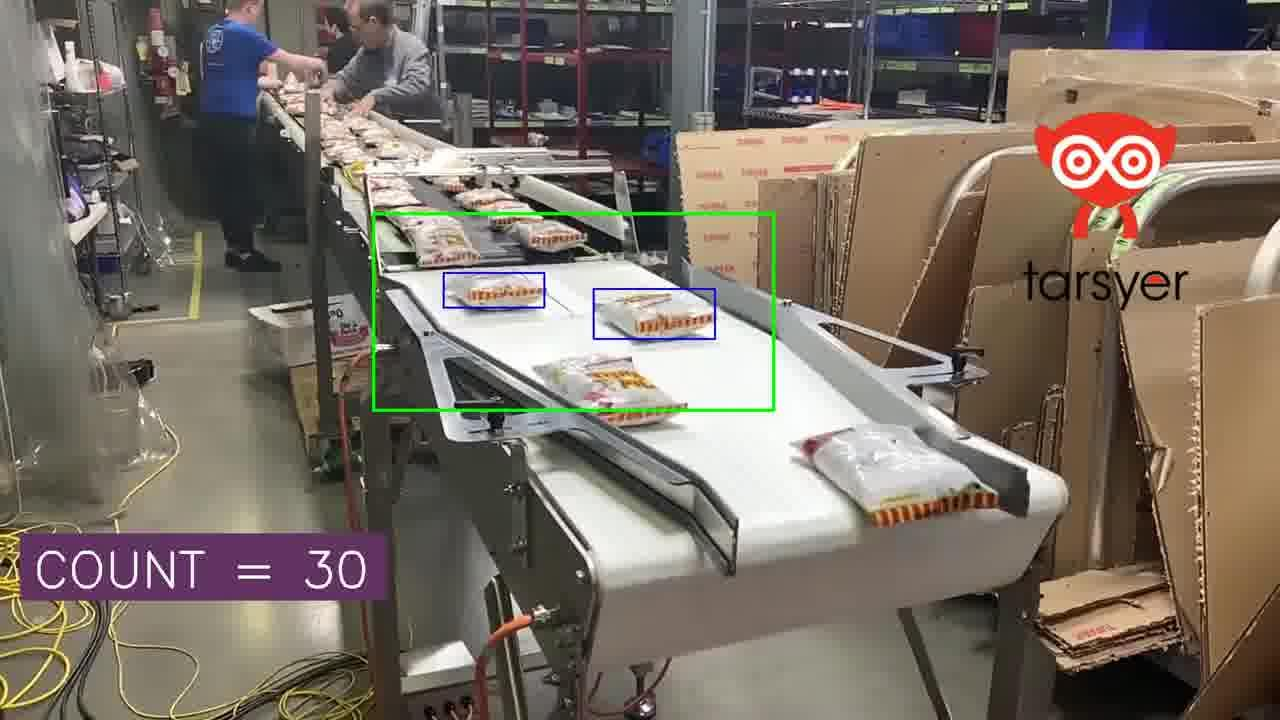Snack: (797, 424, 998, 526), (534, 354, 686, 425), (597, 290, 714, 338), (388, 215, 479, 267), (445, 273, 544, 307), (508, 219, 586, 252), (388, 204, 461, 230), (477, 200, 542, 229), (455, 188, 513, 210), (369, 187, 421, 210), (325, 145, 371, 165), (357, 125, 394, 145), (321, 119, 354, 141), (373, 140, 410, 159), (366, 176, 412, 191), (432, 176, 467, 194), (343, 115, 376, 134)
